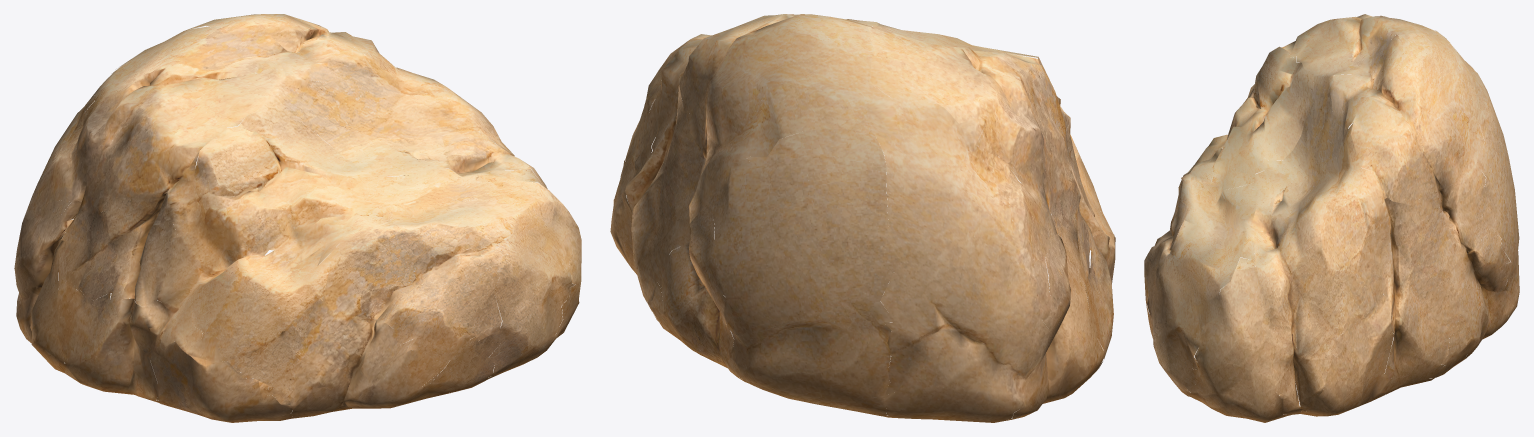
Rendered from rock-v1.glb.
3 views of the same model, side by side, from view 1: azimuth 30°, elevation 25°; view 2: azimuth 150°, elevation 25°; view 3: azimuth 270°, elevation 25° (orthographic). The views are drawn at different scales.
Visible parts, largest first — view 1: rock; view 2: rock; view 3: rock.
Boxes of the visible parts, left/top/right/bottom form: rock: left=14, top=14, right=581, bottom=422; rock: left=610, top=14, right=1115, bottom=422; rock: left=1144, top=14, right=1519, bottom=422.
Size of the model in its own units: 1.4 by 0.8494 by 1.05.
1 material, 1 textured.
